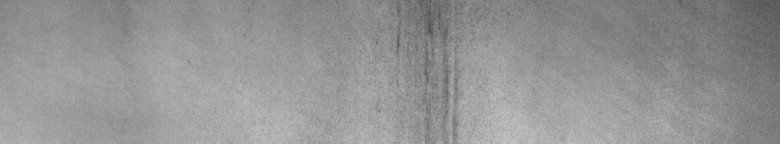ka: (388, 6, 509, 136)
